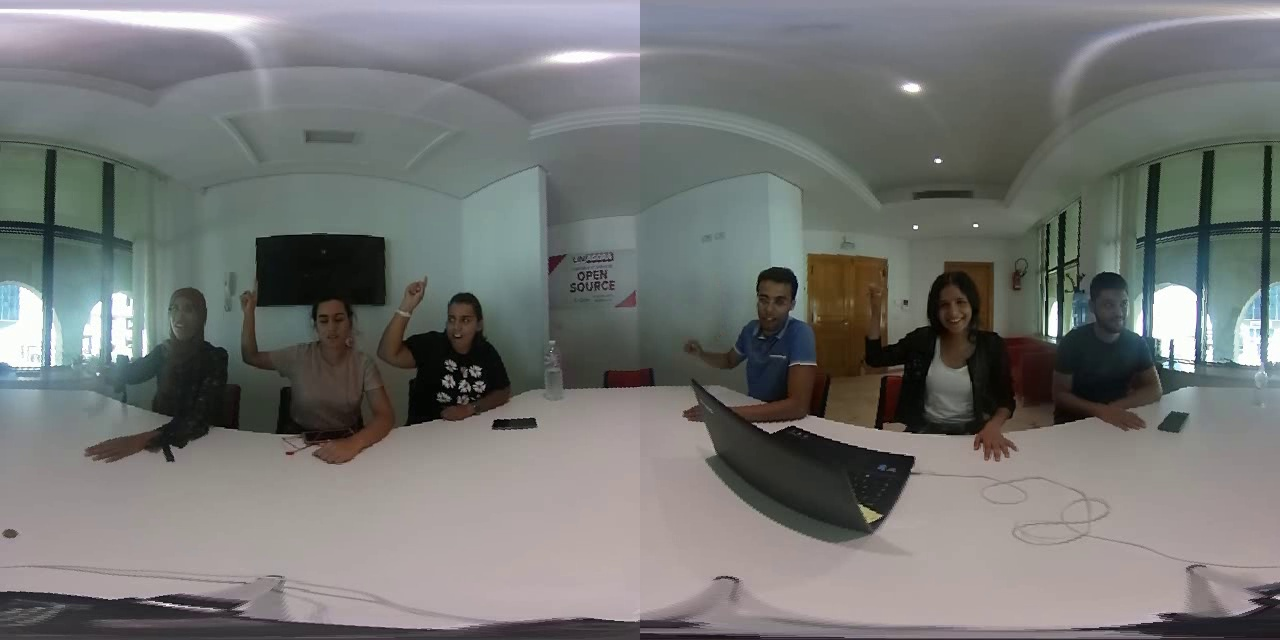hand_up: (849, 279, 901, 371), (240, 283, 285, 380), (381, 279, 420, 374)
person: (843, 258, 1011, 447), (233, 285, 390, 458), (92, 276, 217, 467), (686, 262, 823, 432), (379, 277, 526, 431), (1035, 271, 1171, 422)
